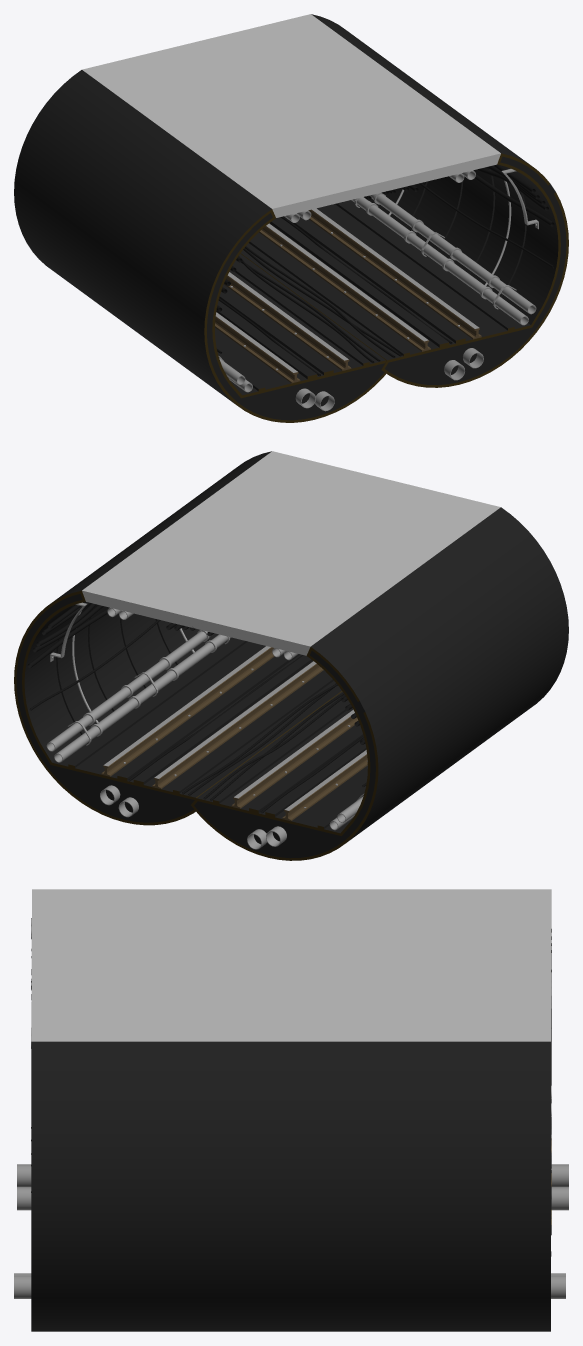
The model's file is TunelPart1.fbx.
The picture shows the model from 3 angles, top to bottom: view 1: azimuth 30°, elevation 25°; view 2: azimuth 150°, elevation 25°; view 3: azimuth 270°, elevation 25°; orthographic projection. The views are drawn at different scales.
Parts seen in each view (by area): view 1: Object_58; view 2: Object_58; view 3: Object_58.
Boxes of the visible parts, x1,y1,x2,y2 form: Object_58: (14,14,568,422); Object_58: (14,451,568,860); Object_58: (14,889,568,1331).
Size of the model in its own units: 332 by 192 by 320.
